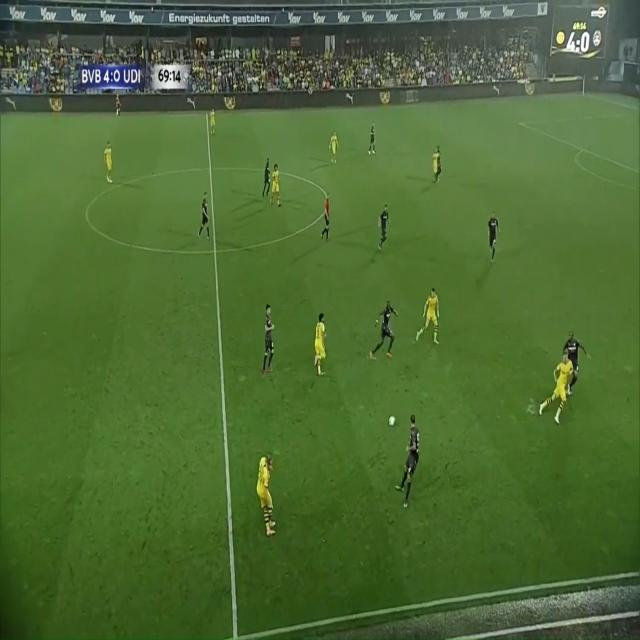ball: (386, 410, 398, 430)
player: (543, 344, 574, 432), (368, 296, 405, 364), (397, 407, 422, 503), (253, 447, 278, 535), (259, 301, 284, 376), (418, 277, 440, 350), (564, 327, 585, 398), (310, 312, 330, 383), (486, 208, 502, 262), (198, 191, 213, 245), (103, 139, 119, 189), (377, 203, 390, 249), (261, 154, 273, 203), (327, 126, 340, 167), (365, 120, 379, 158), (272, 159, 281, 209), (207, 103, 219, 140), (436, 147, 445, 184), (432, 147, 439, 184)
referee: (322, 191, 334, 247), (116, 90, 124, 121)
